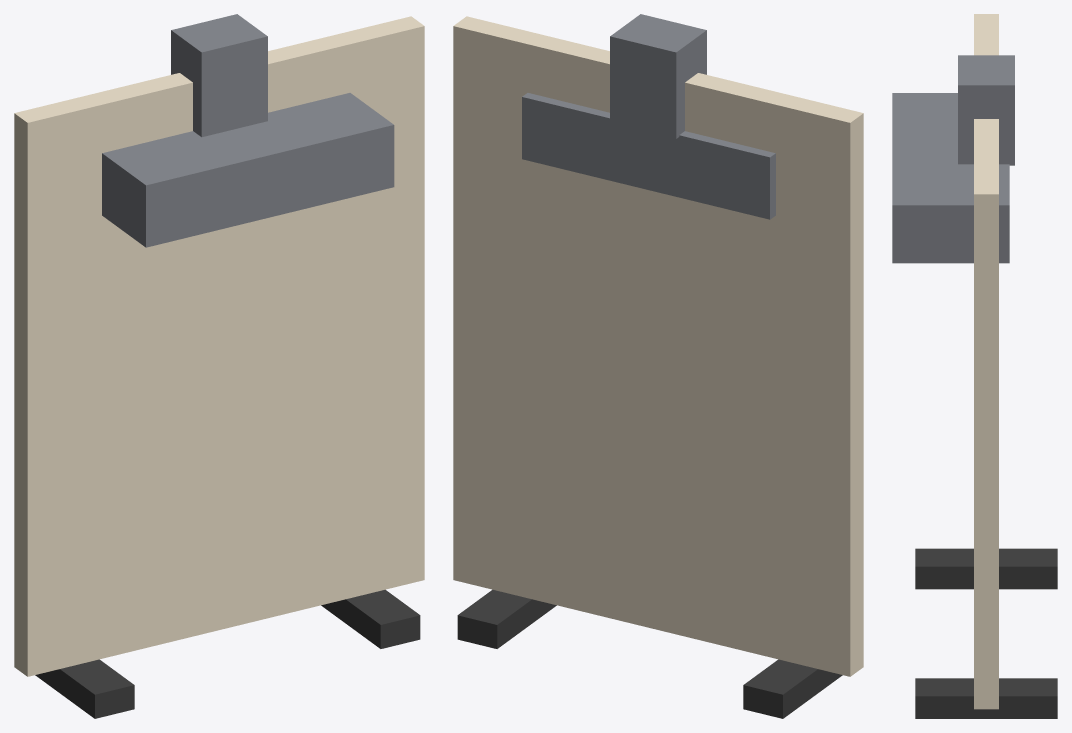
3 renders of one model, left to right at view 1: azimuth 30°, elevation 25°; view 2: azimuth 150°, elevation 25°; view 3: azimuth 270°, elevation 25°, orthographic. The views are drawn at different scales.
Parts seen in each view (by area): view 1: Panel, Range hood, Hood flue, Panel foot.001, Panel foot; view 2: Panel, Range hood, Hood flue, Panel foot.001, Panel foot; view 3: Panel, Range hood, Hood flue, Panel foot.001, Panel foot.
Part boxes in pixels (bbox=[...]): Panel: bbox=[14, 16, 424, 676]; Range hood: bbox=[102, 93, 394, 247]; Hood flue: bbox=[171, 14, 267, 137]; Panel foot.001: bbox=[321, 589, 420, 648]; Panel foot: bbox=[35, 659, 134, 718]; Panel: bbox=[453, 16, 863, 676]; Range hood: bbox=[522, 93, 775, 219]; Hood flue: bbox=[610, 14, 706, 138]; Panel foot.001: bbox=[457, 589, 556, 648]; Panel foot: bbox=[743, 659, 842, 718]; Panel: bbox=[974, 14, 998, 709]; Range hood: bbox=[892, 93, 1009, 263]; Hood flue: bbox=[958, 55, 1014, 165]; Panel foot.001: bbox=[915, 678, 1057, 718]; Panel foot: bbox=[915, 548, 1057, 589].
Size of the model in its own units: 1.2 by 1.78 by 0.465.
Materials: 1 (1 with a texture image).
